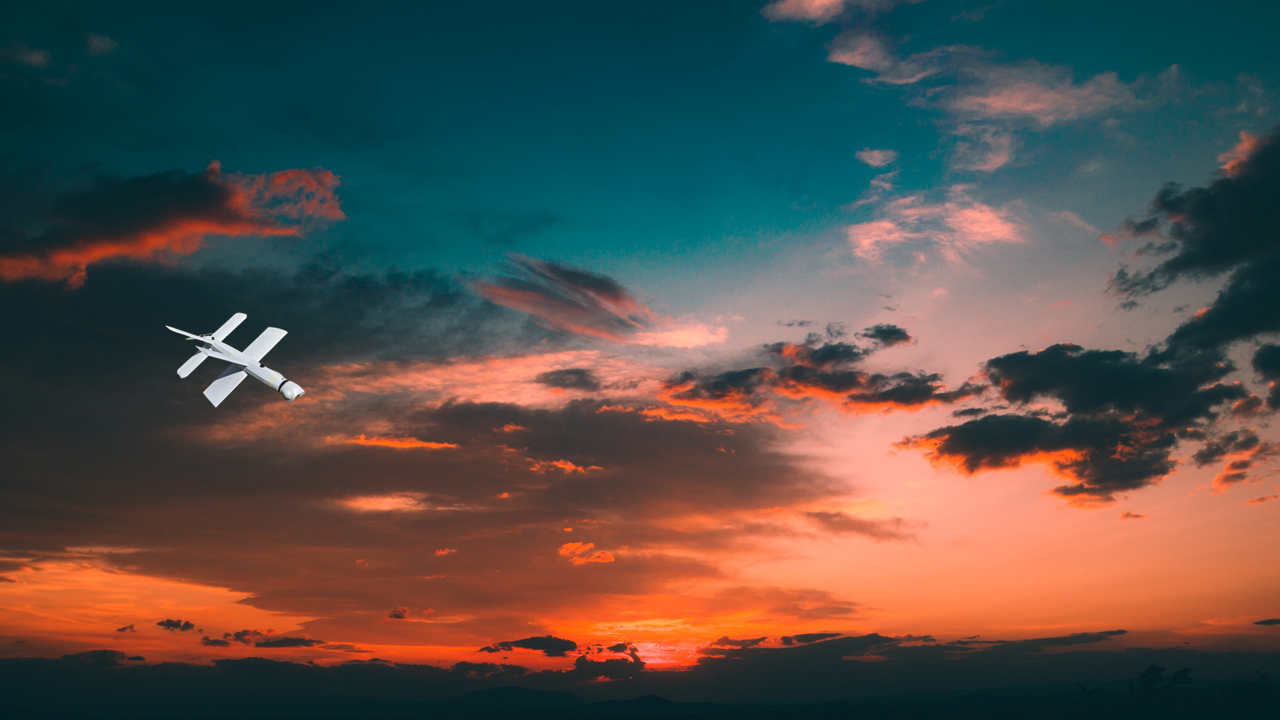military drone: (165, 312, 305, 408)
